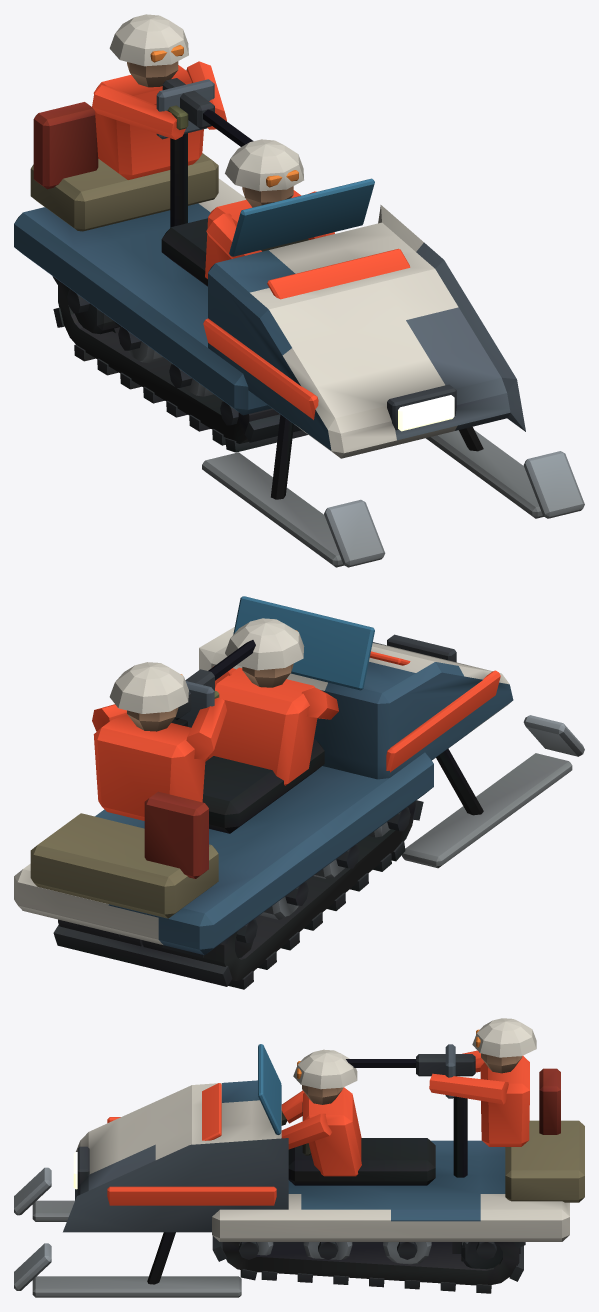
The model's file is snowmobile.glb.
3 renders of one model, top to bottom at view 1: azimuth 30°, elevation 25°; view 2: azimuth 150°, elevation 25°; view 3: azimuth 270°, elevation 25°, orthographic. The views are drawn at different scales.
Visible parts, largest first — view 1: geo_body, geo_turret, geo_track_right, geo_barrel; view 2: geo_body, geo_turret, geo_track_right, geo_track_left, geo_barrel; view 3: geo_body, geo_track_left, geo_turret, geo_barrel.
Boxes of the visible parts, x1,y1,x2,y2 form: geo_body: (14,102,584,567); geo_turret: (92,14,226,227); geo_track_right: (52,276,307,452); geo_barrel: (162,78,253,146); geo_body: (14,596,584,955); geo_turret: (92,662,226,820); geo_track_right: (138,800,423,989); geo_track_left: (53,919,143,966); geo_barrel: (174,640,255,720); geo_body: (14,1044,584,1297); geo_track_left: (212,1236,525,1293); geo_turret: (429,1018,536,1177); geo_barrel: (346,1054,475,1076).
Bounding box in the file's own units: 2.16 × 2.66 × 5.74.
